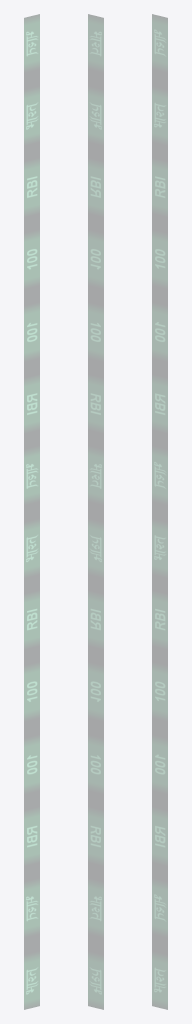
File: Note_Strips_100.glb
3 renders of one model, left to right at view 1: azimuth 30°, elevation 25°; view 2: azimuth 150°, elevation 25°; view 3: azimuth 330°, elevation 25°, orthographic.
Parts seen in each view (by area): view 1: Note_strip_100; view 2: Note_strip_100; view 3: Note_strip_100.
Part boxes in pixels (box(x1,y1,x2,y2)): Note_strip_100: box(24, 14, 39, 1009); Note_strip_100: box(88, 14, 103, 1009); Note_strip_100: box(152, 14, 167, 1009).
Bounding box in the file's own units: 0.168 × 10 × 2.22e-15.
Materials: 1 (1 with a texture image).
